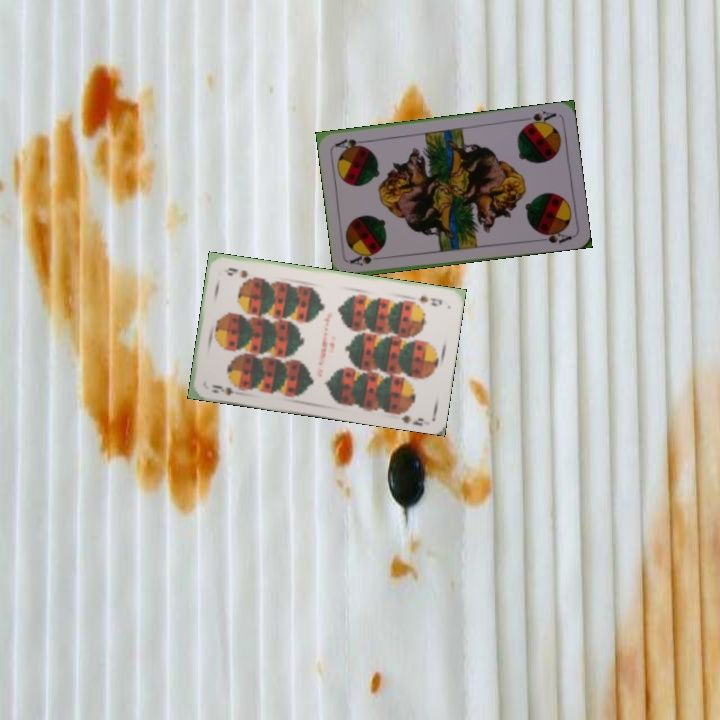S9: (208, 381, 244, 398), (414, 291, 445, 308)
SA: (519, 107, 559, 129), (346, 250, 379, 268)
